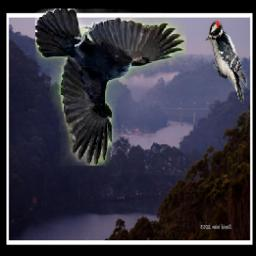Crow: (35, 9, 186, 167)
Woodpecker: (204, 21, 246, 104)
